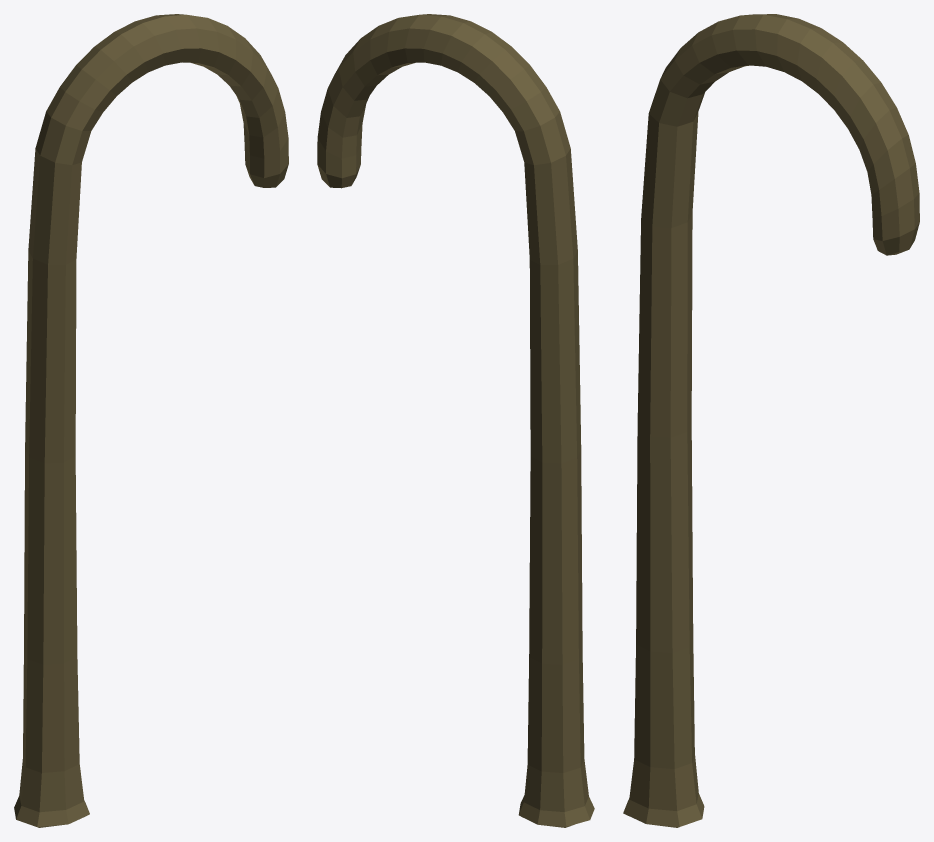
The model's file is trost.fbx.
3 views of the same model, side by side, from view 1: azimuth 30°, elevation 25°; view 2: azimuth 150°, elevation 25°; view 3: azimuth 330°, elevation 25° (orthographic). The views are drawn at different scales.
Visible parts, largest first — view 1: Trost; view 2: Trost; view 3: Trost.
Boxes of the visible parts, left/top/right/bottom form: Trost: left=14, top=14, right=288, bottom=827; Trost: left=317, top=14, right=594, bottom=827; Trost: left=623, top=14, right=919, bottom=827.
Bounding box in the file's own units: 30.6 × 84.04 × 7.05.
